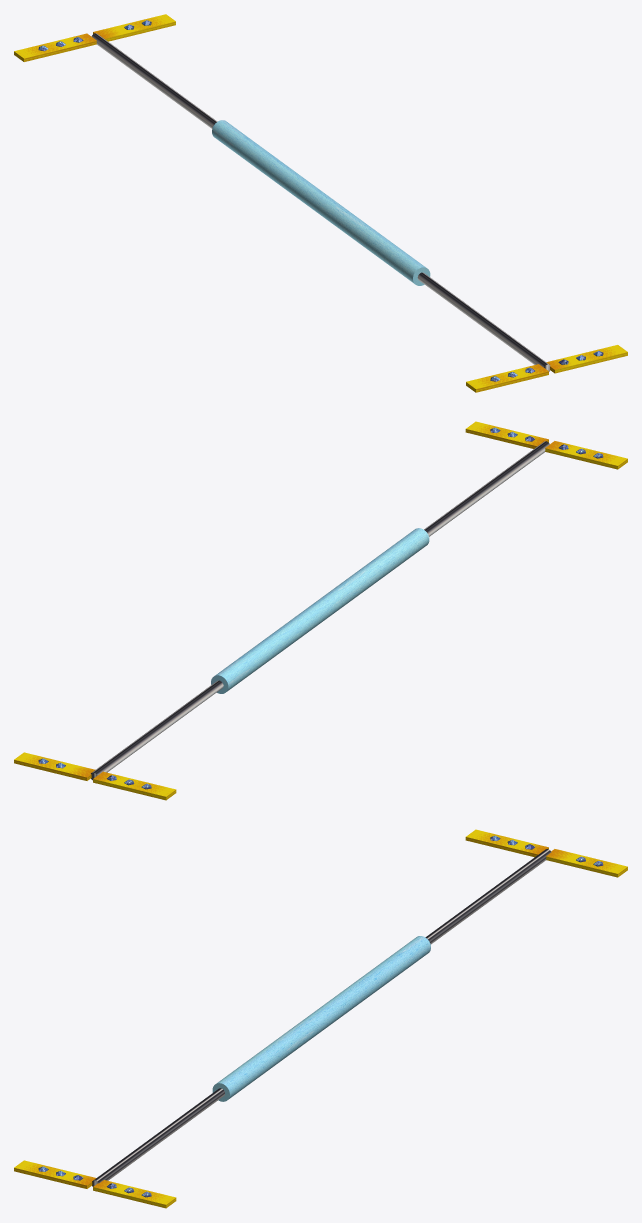
Rendered from EstacionEstructura.obj.
The picture shows the model from 3 angles, top to bottom: view 1: azimuth 30°, elevation 25°; view 2: azimuth 150°, elevation 25°; view 3: azimuth 330°, elevation 25°; orthographic projection.
Parts seen in each view (by area): view 1: Cylinder.004_Material.004, Cylinder.007_Material.003, Cube.008_hexztech_dorado, Cube.003_hexztech_dorado, Cube.004_hexztech_dorado, Cube.007_hexztech_dorado; view 2: Cylinder.004_Material.004, Cylinder.007_Material.003, Cube.008_hexztech_dorado, Cube.007_hexztech_dorado, Cube.003_hexztech_dorado, Cube.004_hexztech_dorado; view 3: Cylinder.004_Material.004, Cylinder.007_Material.003, Cube.007_hexztech_dorado, Cube.004_hexztech_dorado, Cube.003_hexztech_dorado, Cube.008_hexztech_dorado.
Boxes of the visible parts, <box> form: Cylinder.004_Material.004: <box>212,120,430,285</box>; Cylinder.007_Material.003: <box>91,33,550,371</box>; Cube.008_hexztech_dorado: <box>14,33,96,61</box>; Cube.003_hexztech_dorado: <box>466,364,548,392</box>; Cube.004_hexztech_dorado: <box>546,345,627,373</box>; Cube.007_hexztech_dorado: <box>93,14,175,41</box>; Cylinder.004_Material.004: <box>211,528,429,693</box>; Cylinder.007_Material.003: <box>90,441,549,780</box>; Cube.008_hexztech_dorado: <box>93,771,176,800</box>; Cube.007_hexztech_dorado: <box>14,752,95,780</box>; Cube.003_hexztech_dorado: <box>545,441,627,469</box>; Cube.004_hexztech_dorado: <box>465,421,548,448</box>; Cylinder.004_Material.004: <box>212,936,430,1101</box>; Cylinder.007_Material.003: <box>92,849,551,1186</box>; Cube.007_hexztech_dorado: <box>546,849,627,877</box>; Cube.004_hexztech_dorado: <box>93,1180,176,1208</box>; Cube.003_hexztech_dorado: <box>14,1160,96,1188</box>; Cube.008_hexztech_dorado: <box>465,829,548,857</box>.
Bounding box in the file's own units: 4.37 × 0.5 × 22.97.
